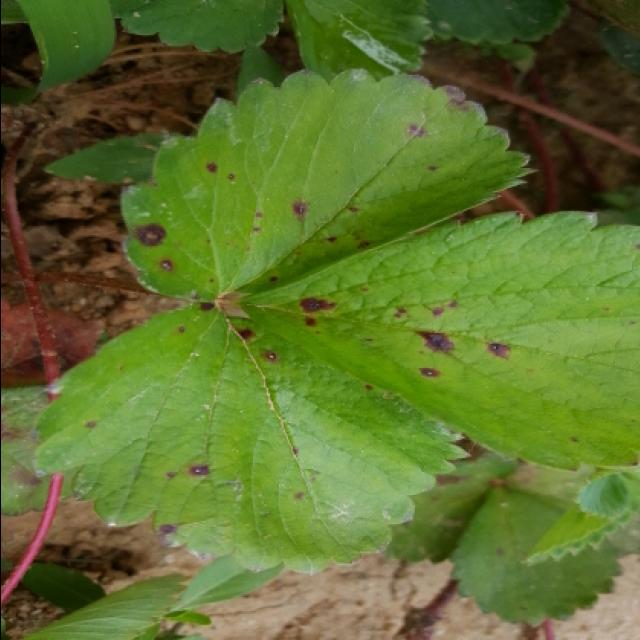Leaf Spot: (31, 303, 470, 576), (237, 209, 640, 473), (118, 67, 538, 303), (448, 485, 628, 629), (385, 435, 522, 567)
